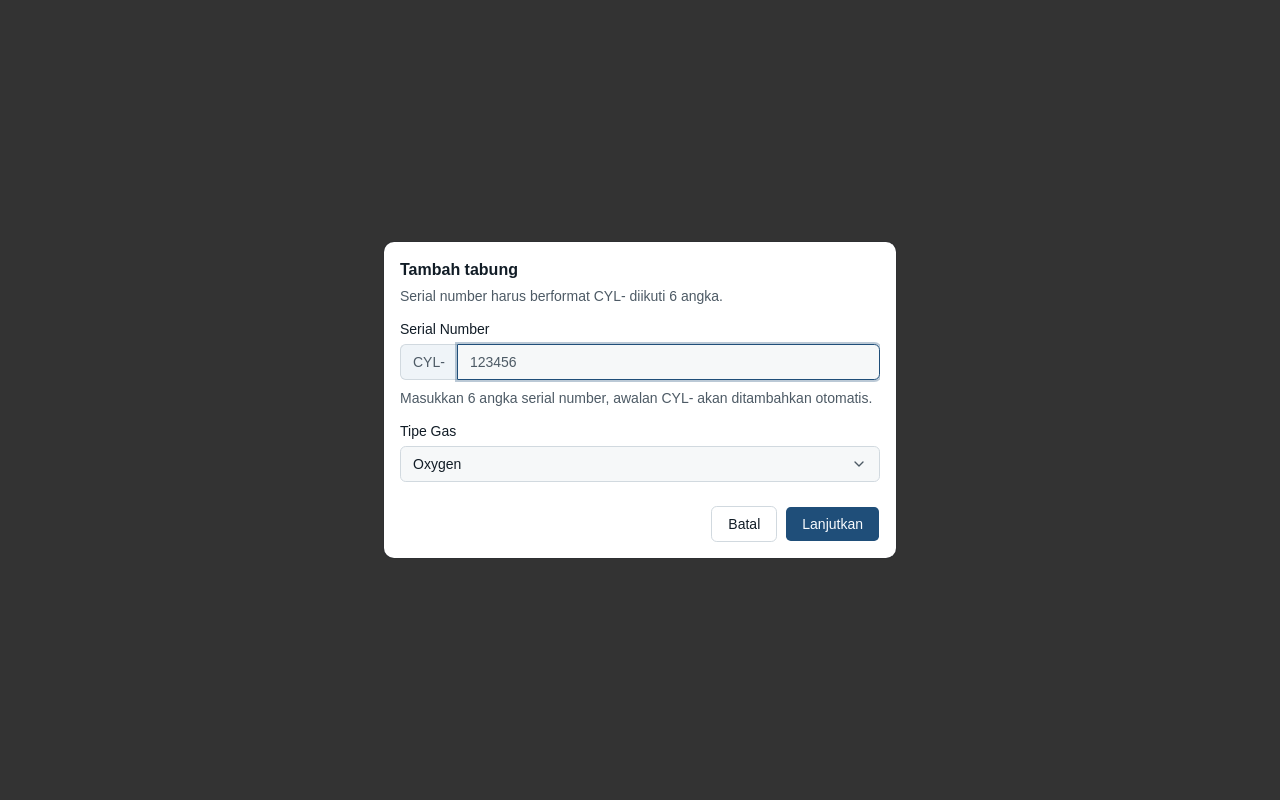
Scenario: CylinderFormDialog serial input › menampilkan galat wajib diisi setelah dikosongkan
Type "12" into the field labelled "Serial Number" at (668, 362), box [457, 344, 880, 380]
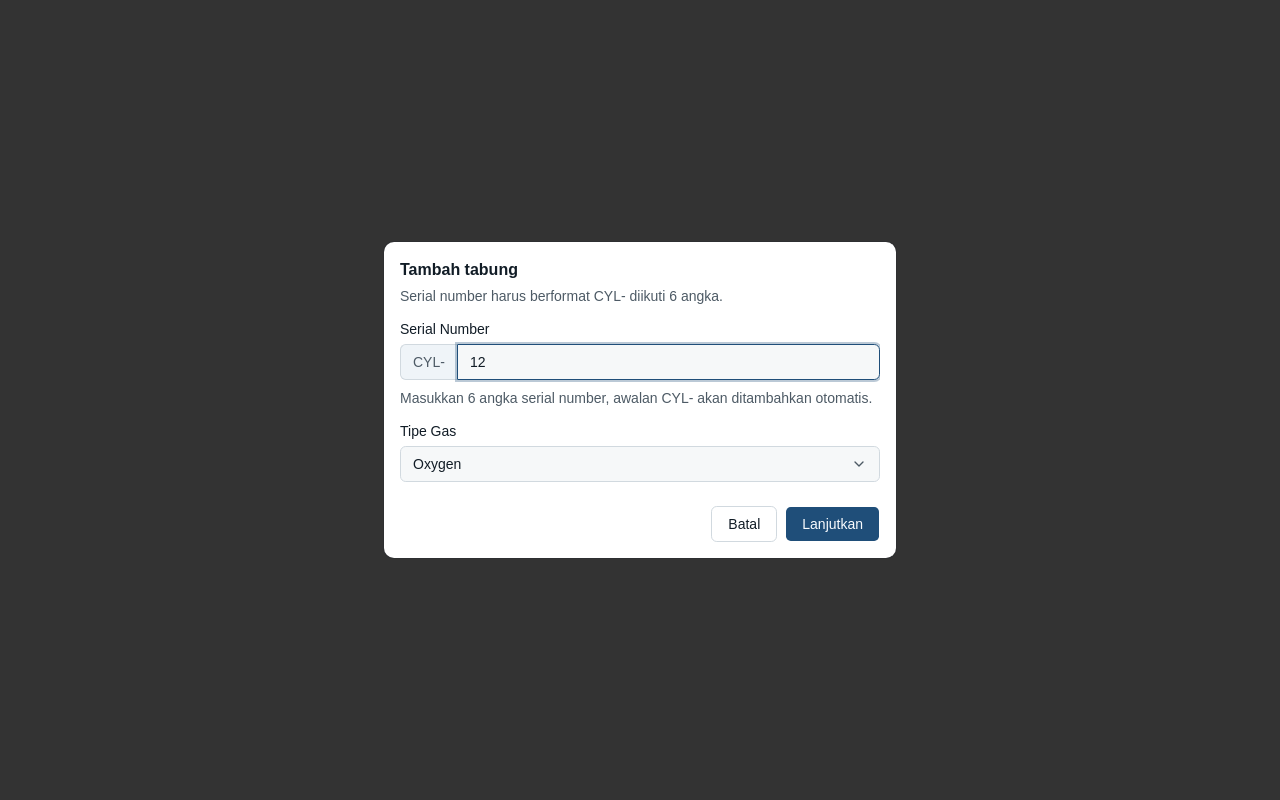
Clear the field labelled "Serial Number" at (668, 362), box [457, 344, 880, 380]
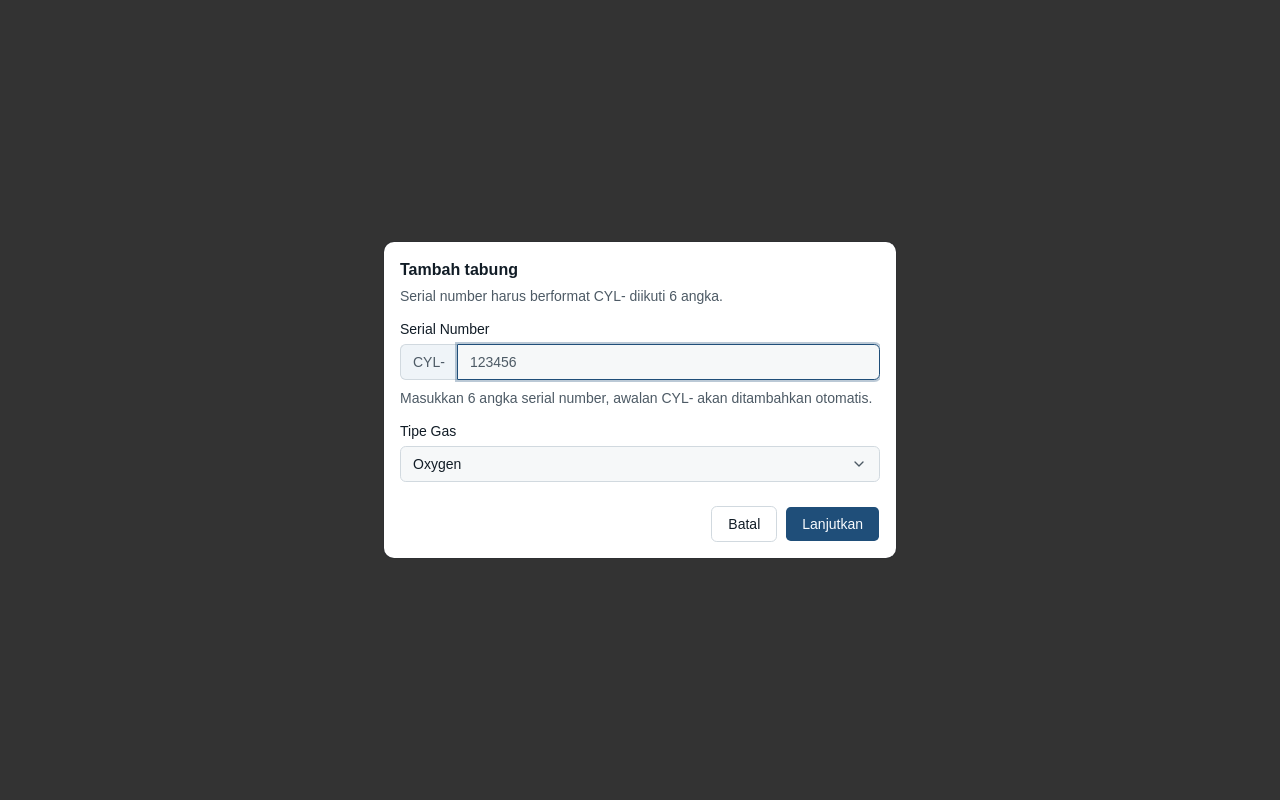
Click the button "Lanjutkan" at (833, 524), box [785, 506, 880, 542]
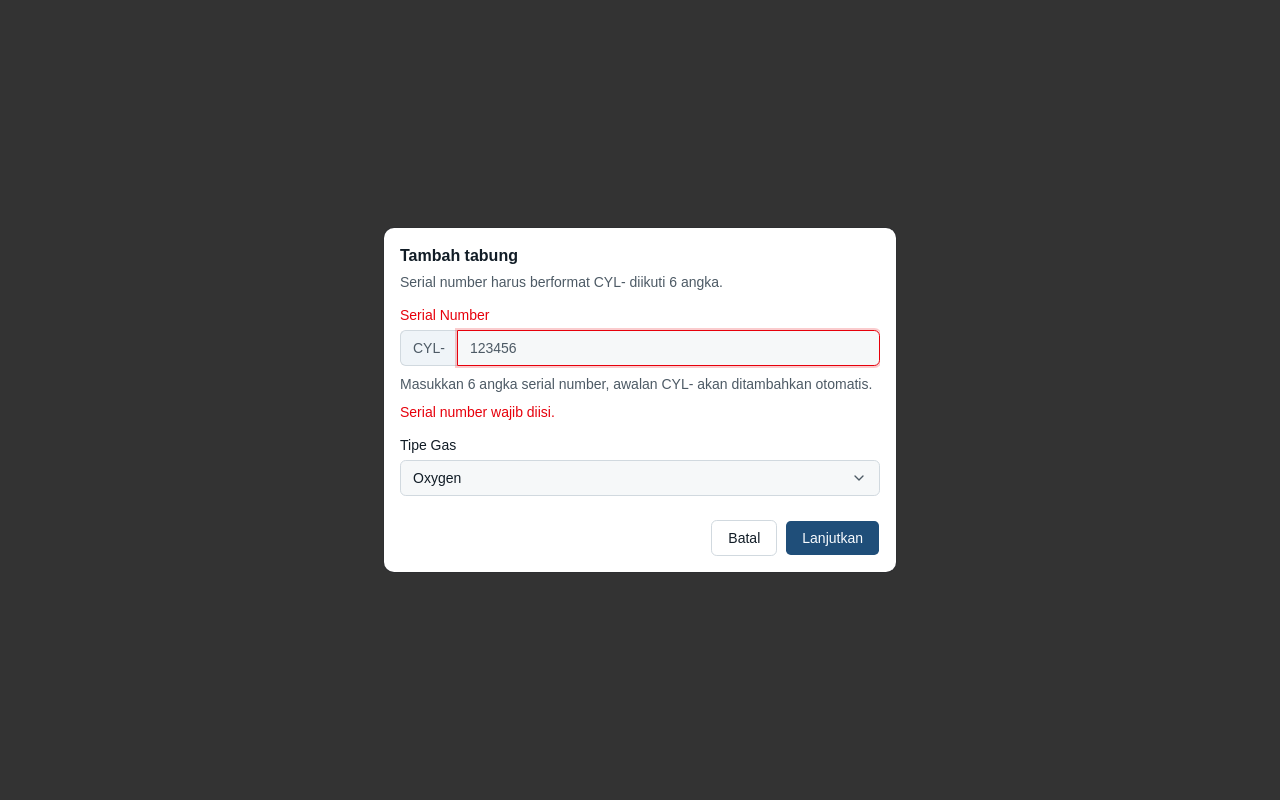
Check: the text "Serial number wajib diisi." is shown, box [400, 404, 555, 420]
